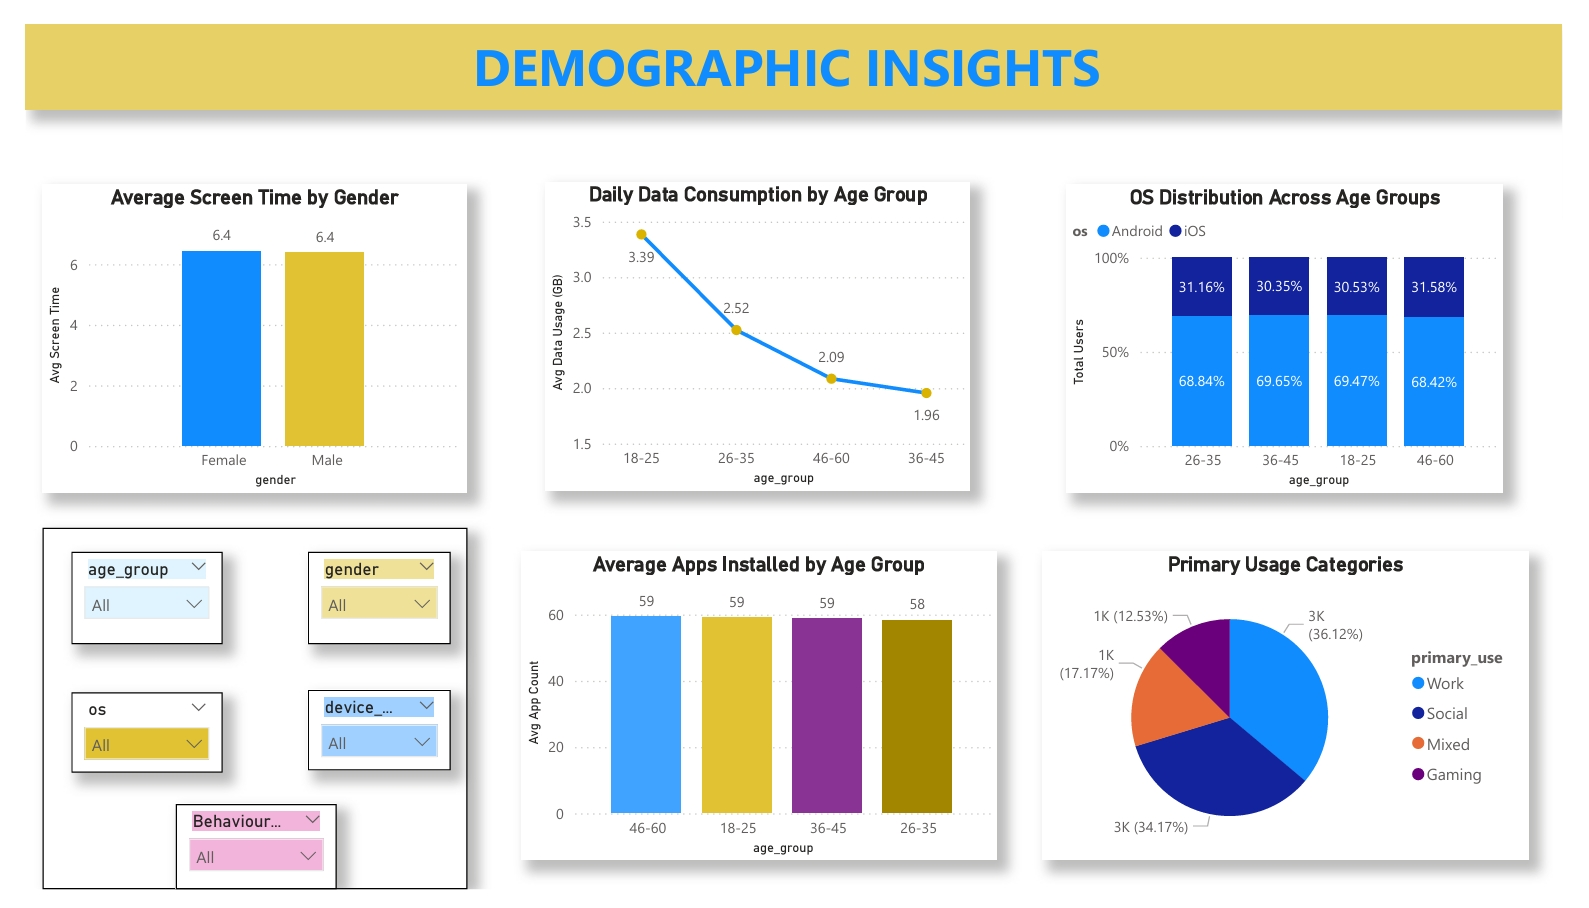

This screenshot's page, from the dashboard's own definition file:
{"tool":"powerbi","page":{"name":"Demographic Analysis","canvas":[1280,720],"ordinal":1},"visuals":[{"type":"textbox","box":[14.2,418.6,353.9,301.3],"z":0},{"type":"textbox","box":[0,0,1280,70.8],"z":1000},{"type":"clusteredColumnChart","title":"Average Screen Time by Gender","fields":{"Y":["Measures (3).Avg Screen Time"],"Category":["user_behavior_dataset.gender"]},"box":[14.2,133.5,353.9,256.8],"z":2000},{"type":"lineChart","title":"Daily Data Consumption by Age Group","fields":{"Category":["user_behavior_dataset.age_group"],"Y":["Measures (3).Avg Data Usage (GB)"]},"box":[432.7,131.4,353.9,256.8],"z":3000},{"type":"hundredPercentStackedColumnChart","title":"OS Distribution Across Age Groups","fields":{"Y":["Measures (3).Total Users"],"Category":["user_behavior_dataset.age_group"],"Series":["user_behavior_dataset.os"]},"box":[867.5,133.5,364,256.8],"z":4000},{"type":"clusteredColumnChart","title":"Average Apps Installed by Age Group","fields":{"Category":["user_behavior_dataset.age_group"],"Y":["Measures (3).Avg App Count"]},"box":[412.5,438.8,396.3,256.8],"z":5000},{"type":"pieChart","title":"Primary Usage Categories","fields":{"Y":["Measures (3).Total Users"],"Category":["user_behavior_dataset.primary_use"]},"box":[847.3,438.8,404.4,256.8],"z":6000},{"type":"slicer","fields":{"Values":["user_behavior_dataset.age_group"]},"box":[38.4,438.8,125.4,76.8],"z":7000},{"type":"slicer","fields":{"Values":["user_behavior_dataset.gender"]},"box":[234.6,438.8,119.3,76.8],"z":8000},{"type":"slicer","fields":{"Values":["user_behavior_dataset.os"]},"box":[38.4,556.1,125.4,66.7],"z":9000},{"type":"slicer","fields":{"Values":["user_behavior_dataset.device_model"]},"box":[234.6,554.1,119.3,66.7],"z":10000},{"type":"slicer","fields":{"Values":["user_behavior_dataset.Behaviour_Class_5Level"]},"box":[125.4,649.1,133.5,70.8],"z":11000}]}

Visuals, with their boxes in screenshot pixels (x1, y1, x2, y2), scaled from the page's 1280x720 canvas onto the 1589x908 screenshot:
textbox: (18,528,457,907)
textbox: (0,0,1588,89)
"Average Screen Time by Gender" clusteredColumnChart: (18,168,457,492)
"Daily Data Consumption by Age Group" lineChart: (537,166,976,490)
"OS Distribution Across Age Groups" hundredPercentStackedColumnChart: (1077,168,1529,492)
"Average Apps Installed by Age Group" clusteredColumnChart: (512,553,1004,877)
"Primary Usage Categories" pieChart: (1052,553,1554,877)
slicer - user_behavior_dataset.age_group: (48,553,203,650)
slicer - user_behavior_dataset.gender: (291,553,439,650)
slicer - user_behavior_dataset.os: (48,701,203,785)
slicer - user_behavior_dataset.device_model: (291,699,439,783)
slicer - user_behavior_dataset.Behaviour_Class_5Level: (156,819,321,907)
